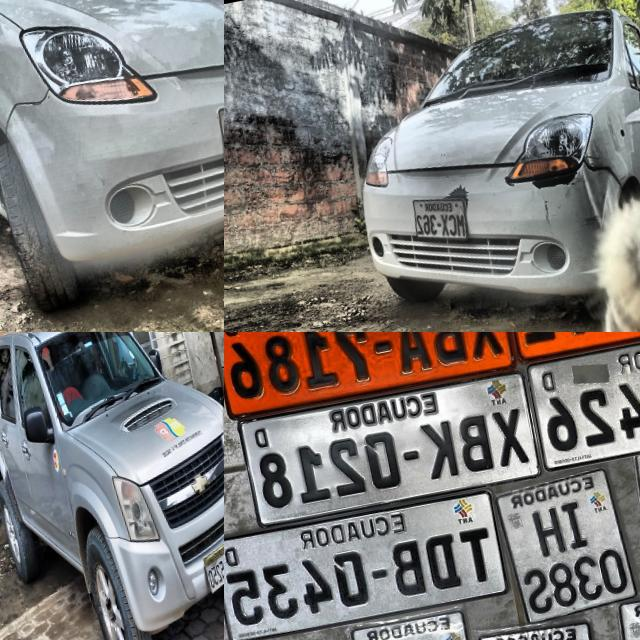license_plate: (236, 369, 542, 529), (224, 486, 514, 640), (224, 332, 516, 424), (518, 332, 640, 475), (413, 198, 469, 240), (202, 541, 224, 598)
